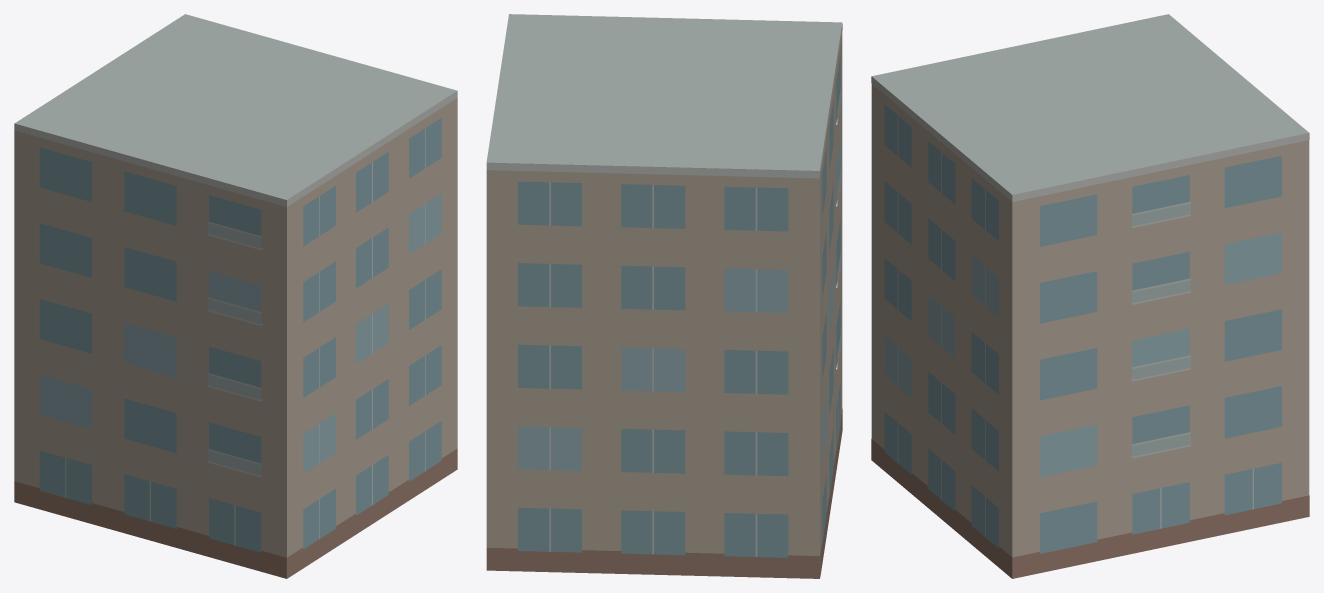
The model's file is survey-upis-33040743.glb.
3 views of the same model, side by side, from view 1: azimuth 30°, elevation 25°; view 2: azimuth 150°, elevation 25°; view 3: azimuth 270°, elevation 25° (orthographic). The views are drawn at different scales.
Parts seen in each view (by area): view 1: survey-upis-33040743.tmp; view 2: survey-upis-33040743.tmp; view 3: survey-upis-33040743.tmp.
Part boxes in pixels (bbox=[...]): survey-upis-33040743.tmp: bbox=[14, 14, 457, 578]; survey-upis-33040743.tmp: bbox=[486, 14, 842, 578]; survey-upis-33040743.tmp: bbox=[871, 14, 1309, 578].
Size of the model in its own units: 13.36 by 13.2 by 13.66.
